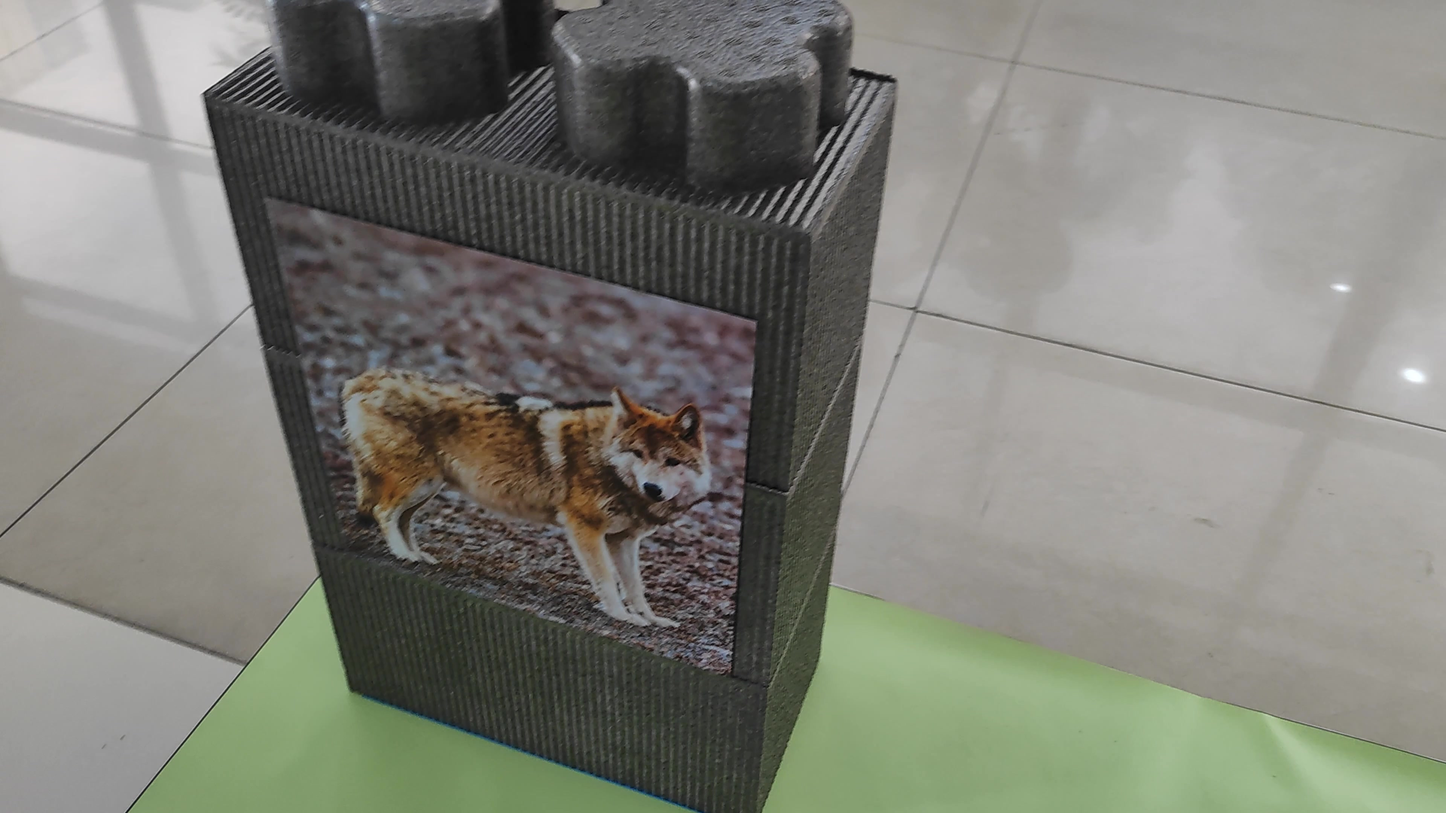wolf: (321, 281, 730, 651)
